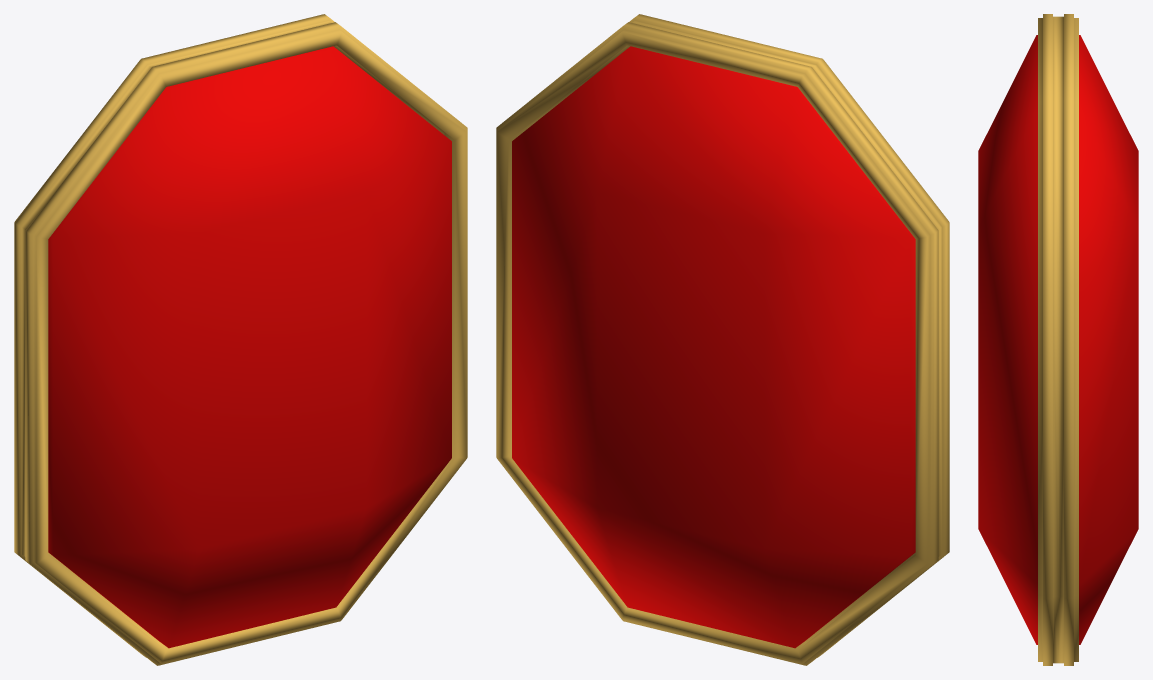
Rendered from Gem.fbx.
The picture shows the model from 3 angles, left to right: view 1: azimuth 30°, elevation 25°; view 2: azimuth 150°, elevation 25°; view 3: azimuth 270°, elevation 25°; orthographic projection. The views are drawn at different scales.
Visible parts, largest first — view 1: Gem; view 2: Gem; view 3: Gem.
Boxes of the visible parts, x1,y1,x2,y2 form: Gem: [14, 14, 467, 665]; Gem: [496, 14, 949, 665]; Gem: [978, 14, 1138, 665].
Size of the model in its own units: 67.6 by 87.93 by 22.51.
